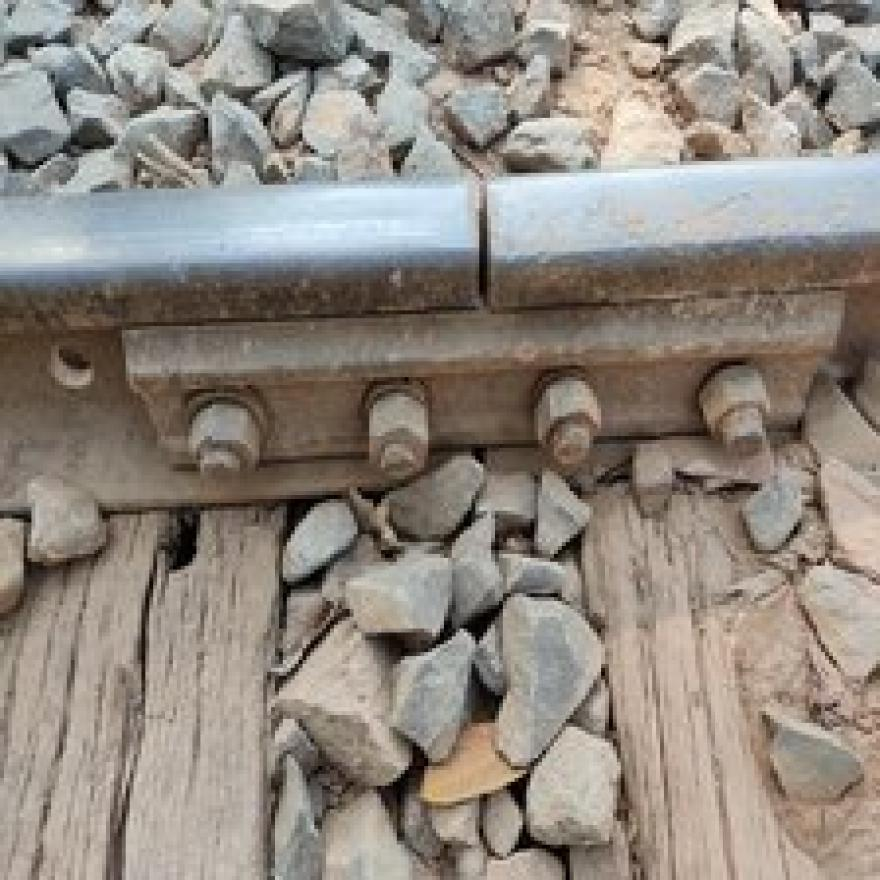railway-gap: (398, 156, 573, 322)
